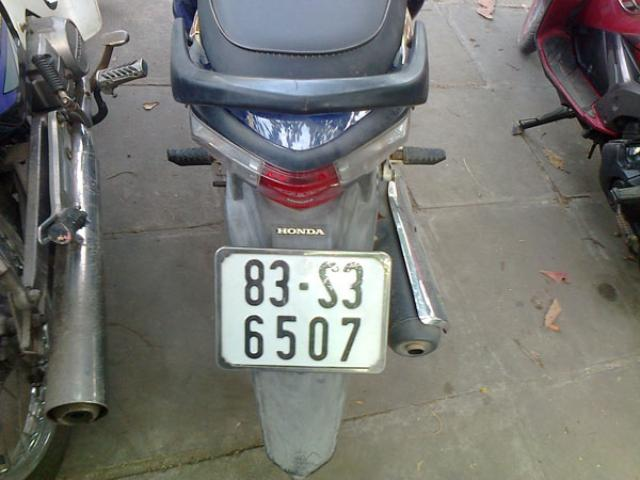plate: (216, 246, 394, 380)
